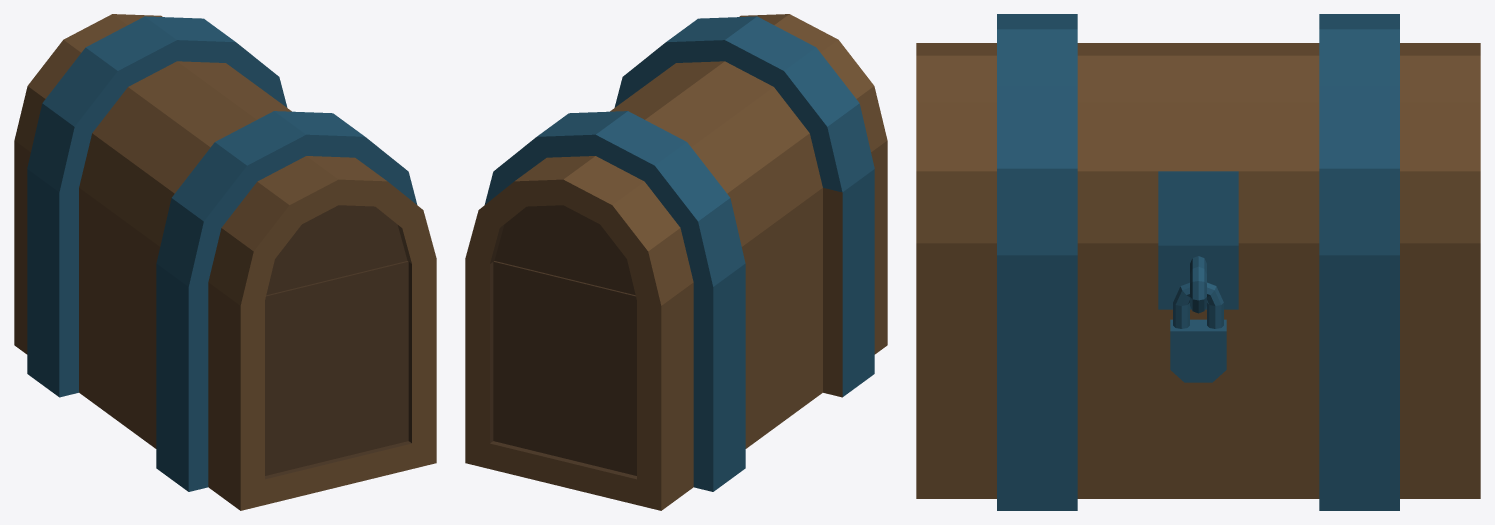
File: chest01.fbx
The picture shows the model from 3 angles, left to right: view 1: azimuth 30°, elevation 25°; view 2: azimuth 150°, elevation 25°; view 3: azimuth 270°, elevation 25°; orthographic projection. The views are drawn at different scales.
Parts seen in each view (by area): view 1: bottom, top; view 2: bottom, top; view 3: bottom, top, lock01, lock02, lock03.
Boxes of the visible parts, x1,y1,x2,y2 form: bottom: [14, 140, 436, 510]; top: [14, 14, 436, 305]; bottom: [465, 140, 887, 510]; top: [465, 14, 887, 305]; bottom: [916, 243, 1480, 510]; top: [916, 14, 1480, 255]; lock01: [1170, 319, 1226, 382]; lock02: [1173, 282, 1223, 328]; lock03: [1190, 256, 1206, 313].
Size of the model in its own units: 65 by 80.18 by 100.
